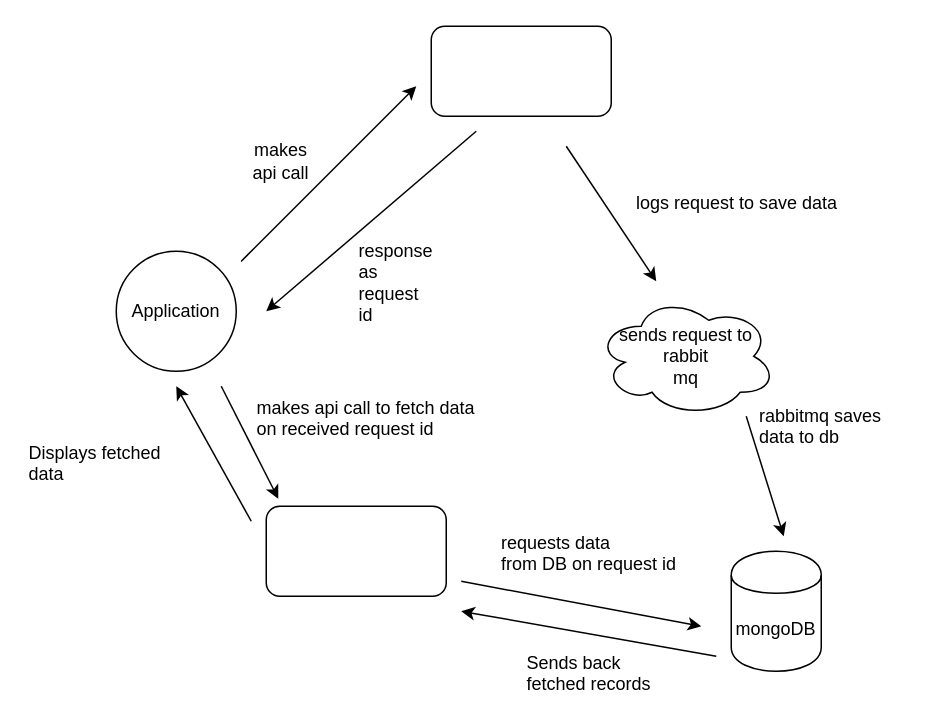
Image size: 932x723. Some labels were removed from this diagram. Each missing label, with the centre of its shape:
flask api to fetch data: pixel 355 550
flask api to save data: pixel 520 70
